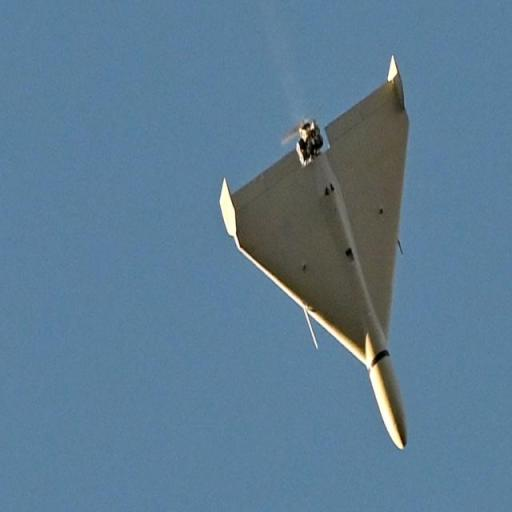uav: (210, 46, 426, 459)
